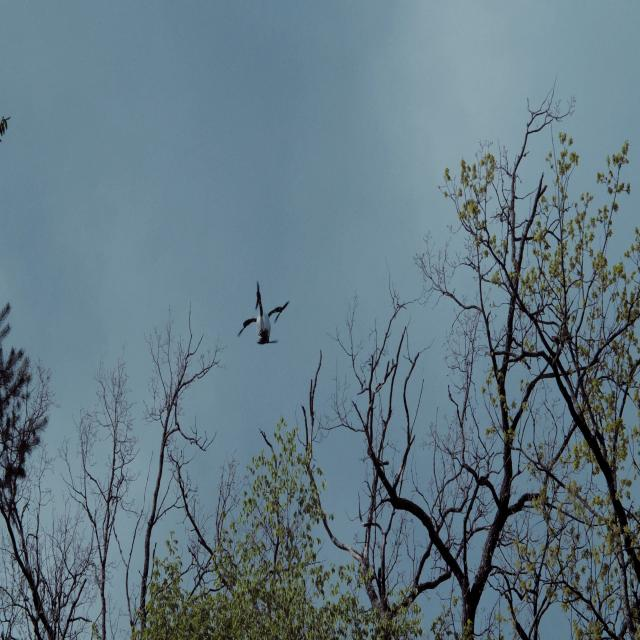Drone: (240, 274, 294, 354)
